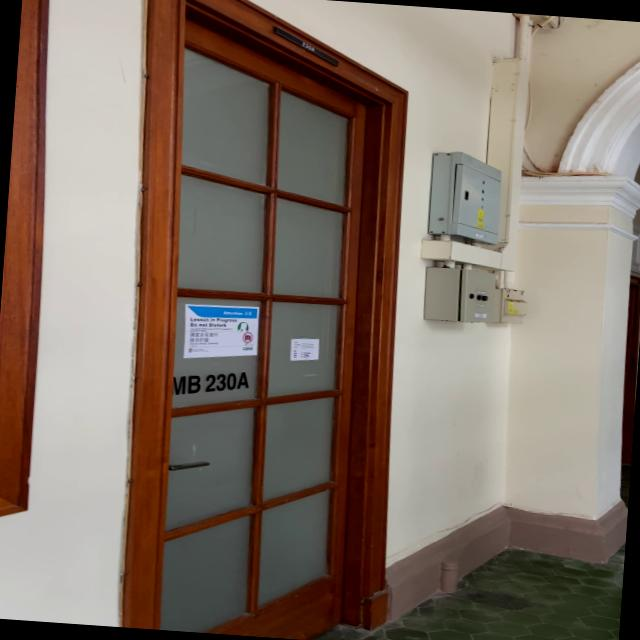room230A: (266, 22, 344, 68)
